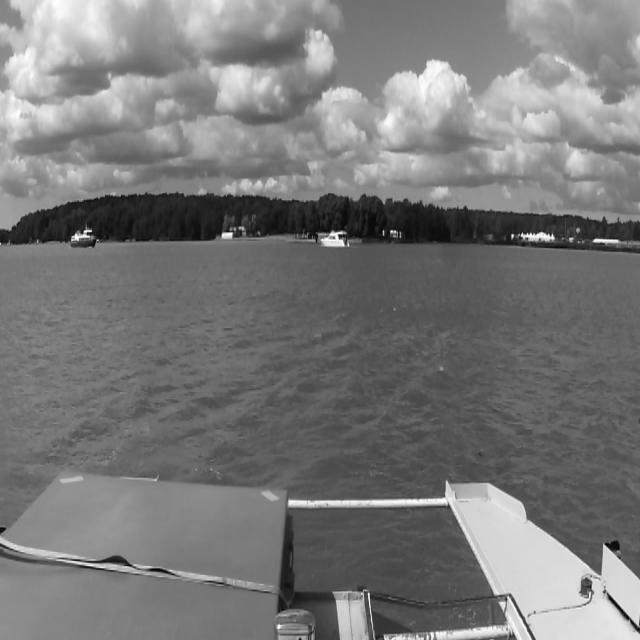ship: (70, 228, 97, 250), (320, 231, 349, 248)
